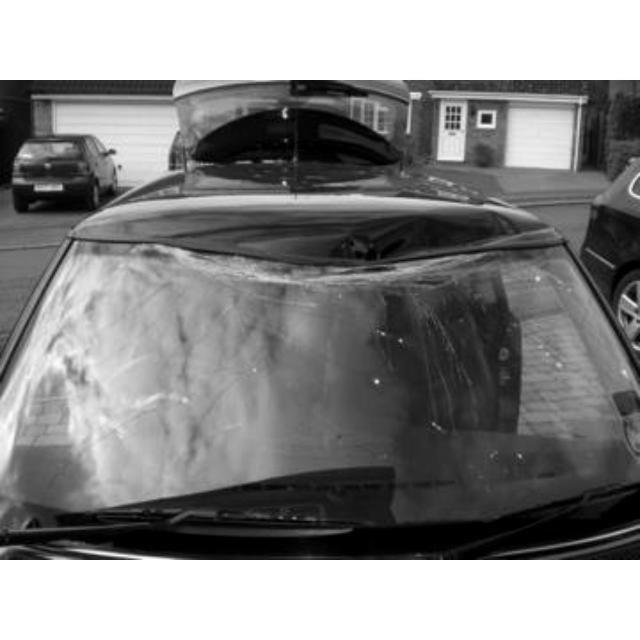Front-windscreen-damage: (8, 239, 639, 544)
